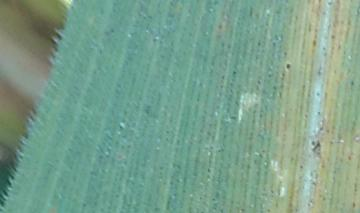tarspot: (310, 141, 321, 151), (284, 61, 292, 71), (216, 21, 224, 30), (109, 27, 117, 36), (97, 46, 103, 57), (348, 79, 356, 86), (300, 112, 308, 119), (231, 68, 238, 75), (311, 39, 318, 46), (314, 90, 321, 97), (310, 139, 316, 147), (314, 109, 322, 115), (317, 124, 323, 132), (326, 1, 332, 8), (256, 39, 261, 47), (346, 153, 351, 161), (330, 33, 336, 39)
